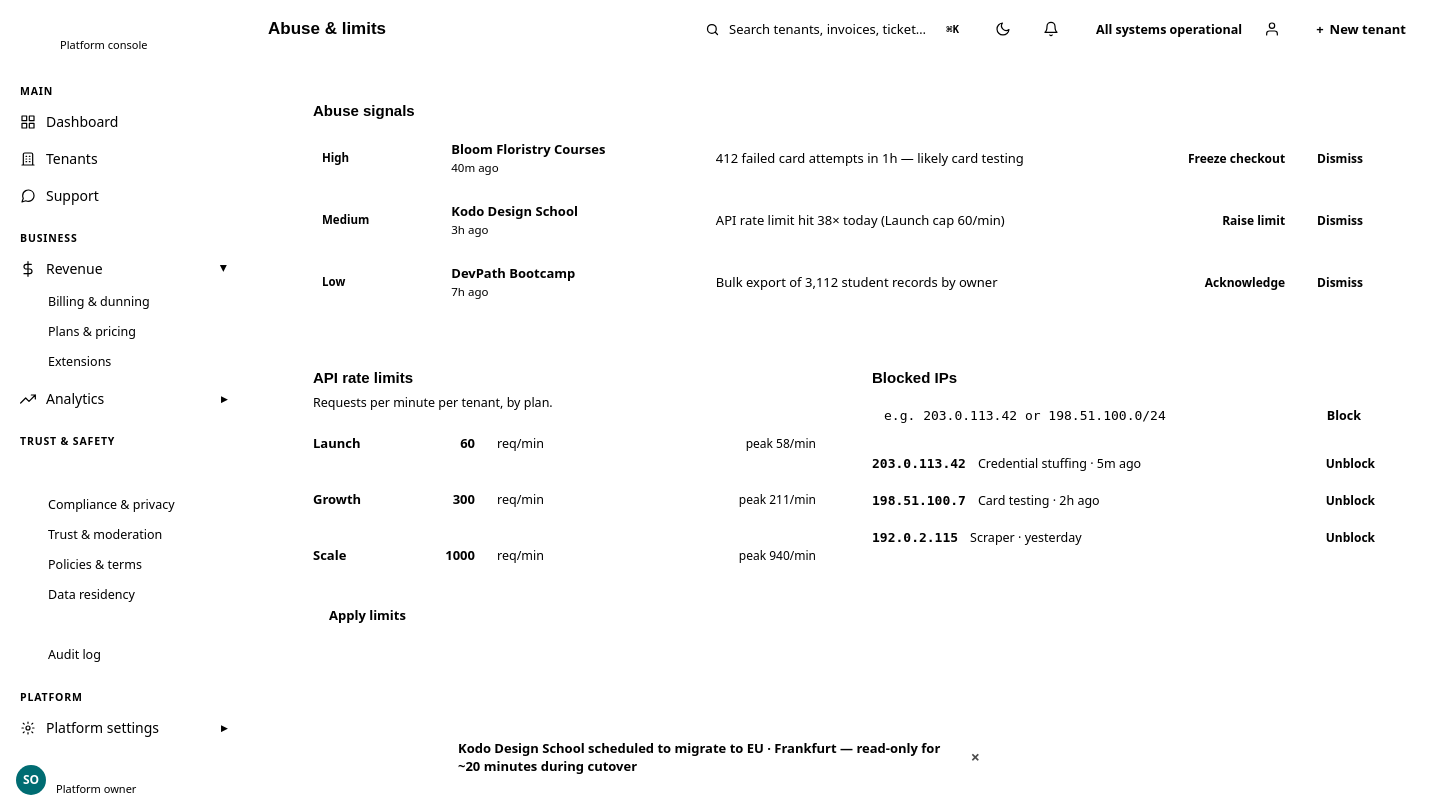
abuse & limits › applies a signal action that changes the tenant
Step 1. Click the button "Raise limit" → [1254, 220], box left=1210, top=204, right=1297, bottom=236
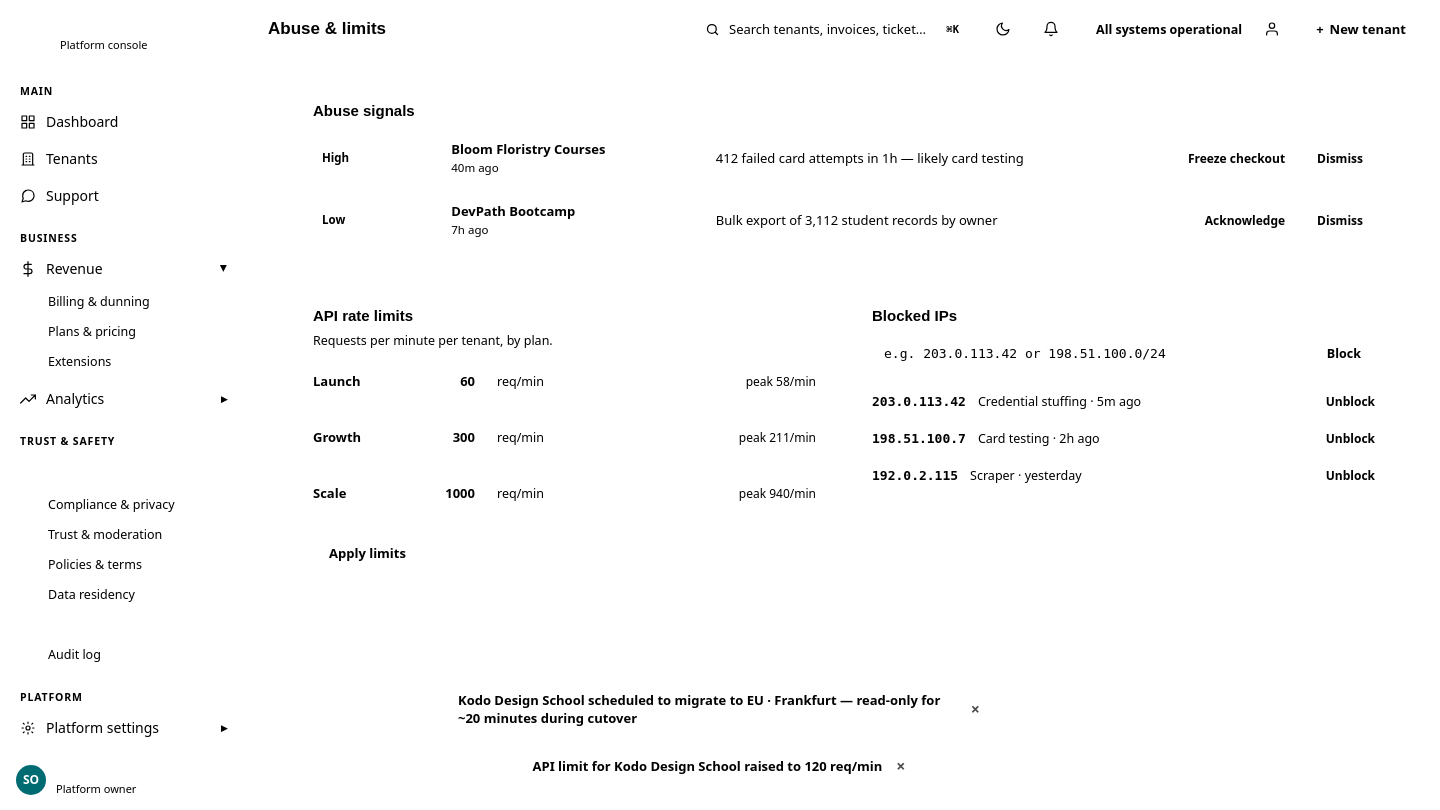
Expected: the text "API limit for Kodo Design School raised to 120 req/min" is shown, left=532, top=757, right=882, bottom=775
